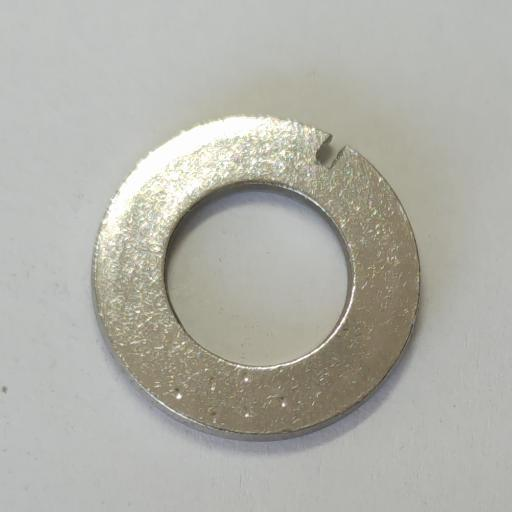burr: (315, 135, 345, 169)
